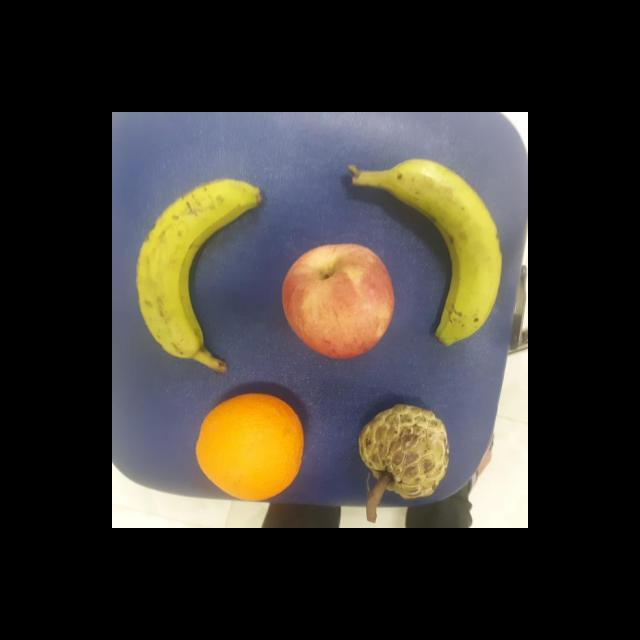Sakya fruit: (358, 404, 458, 504)
apple: (276, 238, 401, 360)
banana: (132, 174, 280, 361), (396, 156, 510, 352)
orange: (195, 392, 310, 504)
